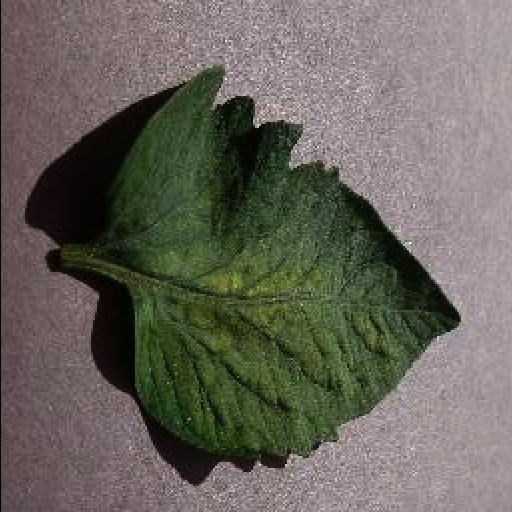disease_tomato: (106, 68, 464, 458)
